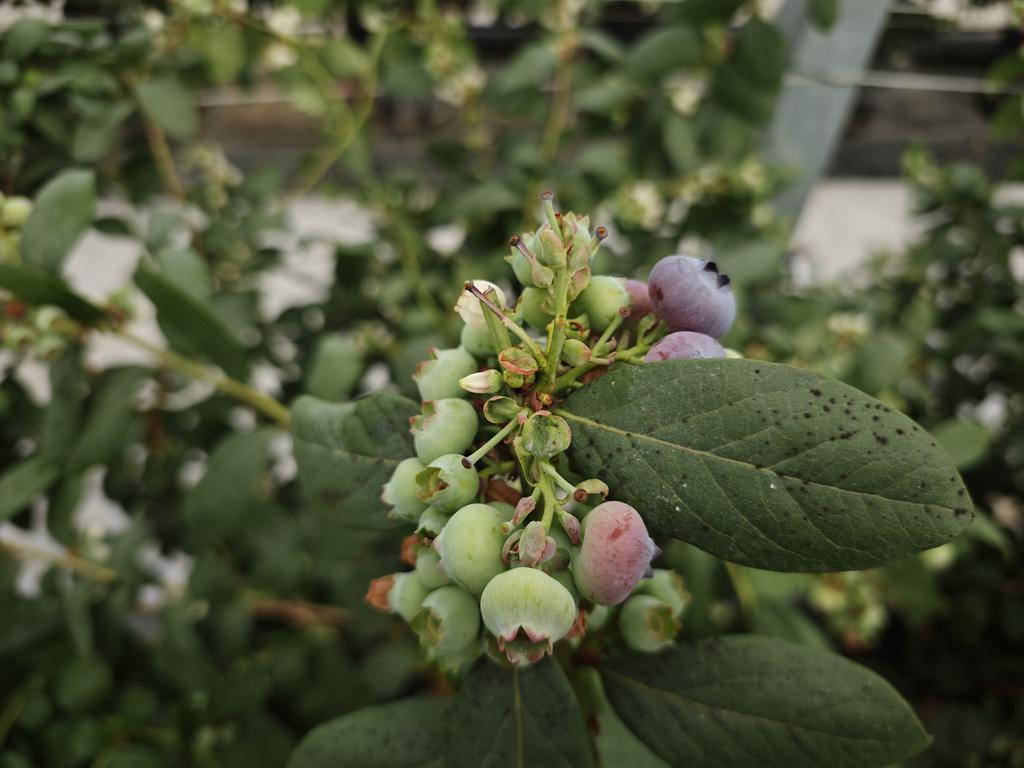Semi-RipeBlueBerry: (574, 500, 657, 609), (650, 254, 739, 339)
UnripeBlueBerry: (479, 565, 579, 666)
